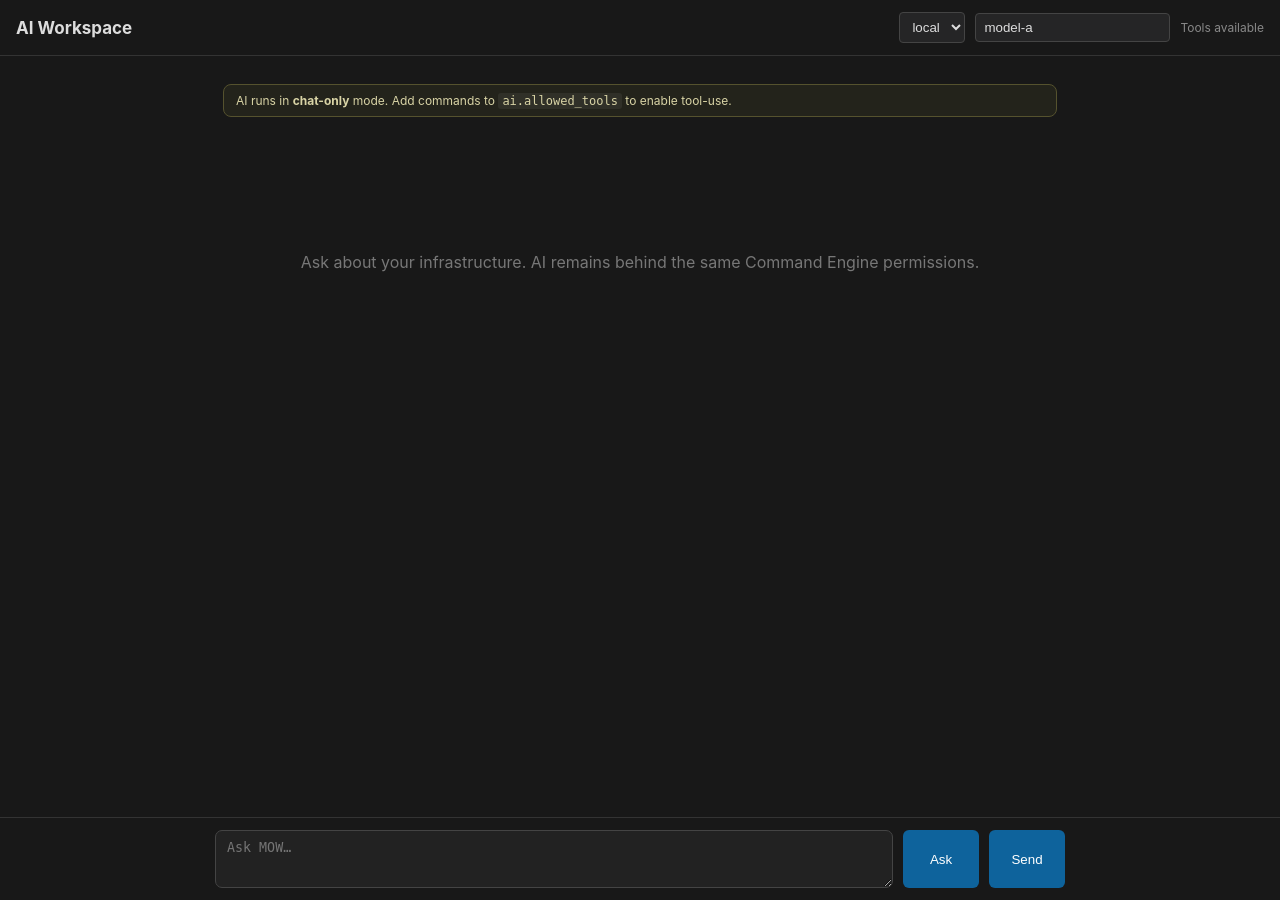
Test: AIPage › loads providers and streams a response after subscriptions are ready
This screenshot has width=1280, height=900.
Expected: the field showing "model-a" is shown, [975,13,1170,42]
In the text box with placeholder "Ask MOW…": (554, 859) [215,830,893,888], type "status"
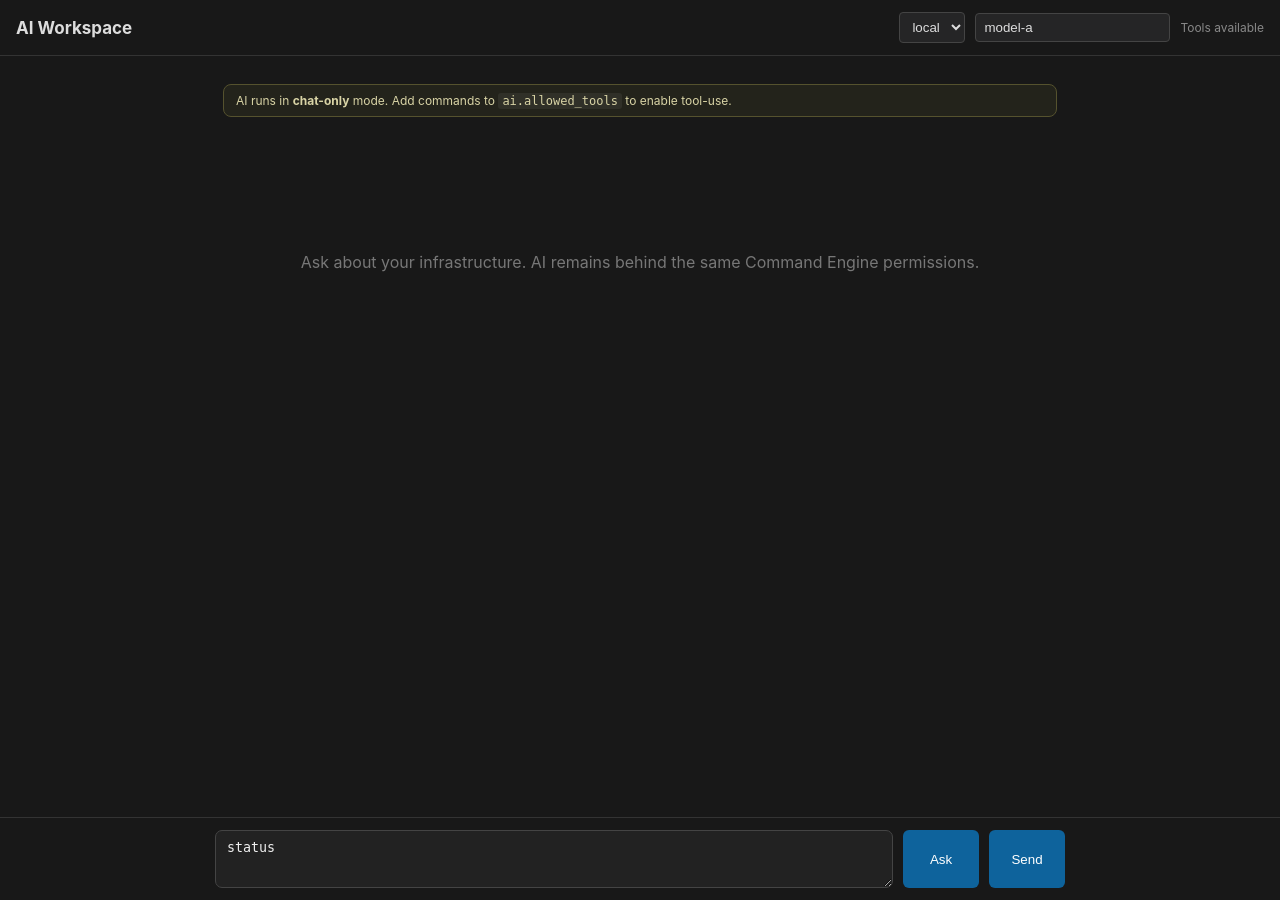
Click the button "Send": (1027, 859) [989,830,1065,888]
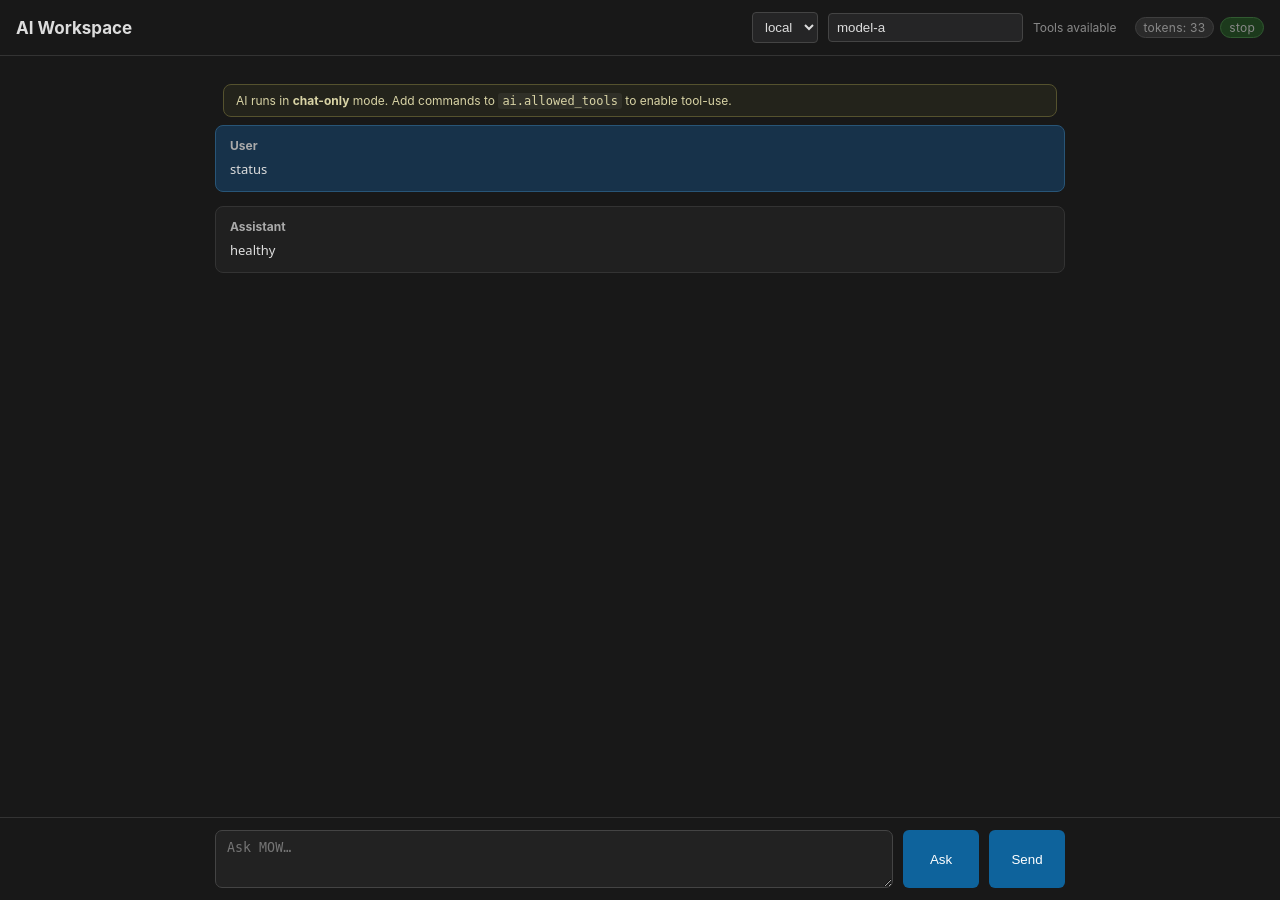
Expected: the text "healthy" is shown, [230,241,275,259]
Expected: the text "tokens: 33" is shown, [1134,17,1214,38]
Expected: the text "stop" is shown, [1220,17,1264,38]
